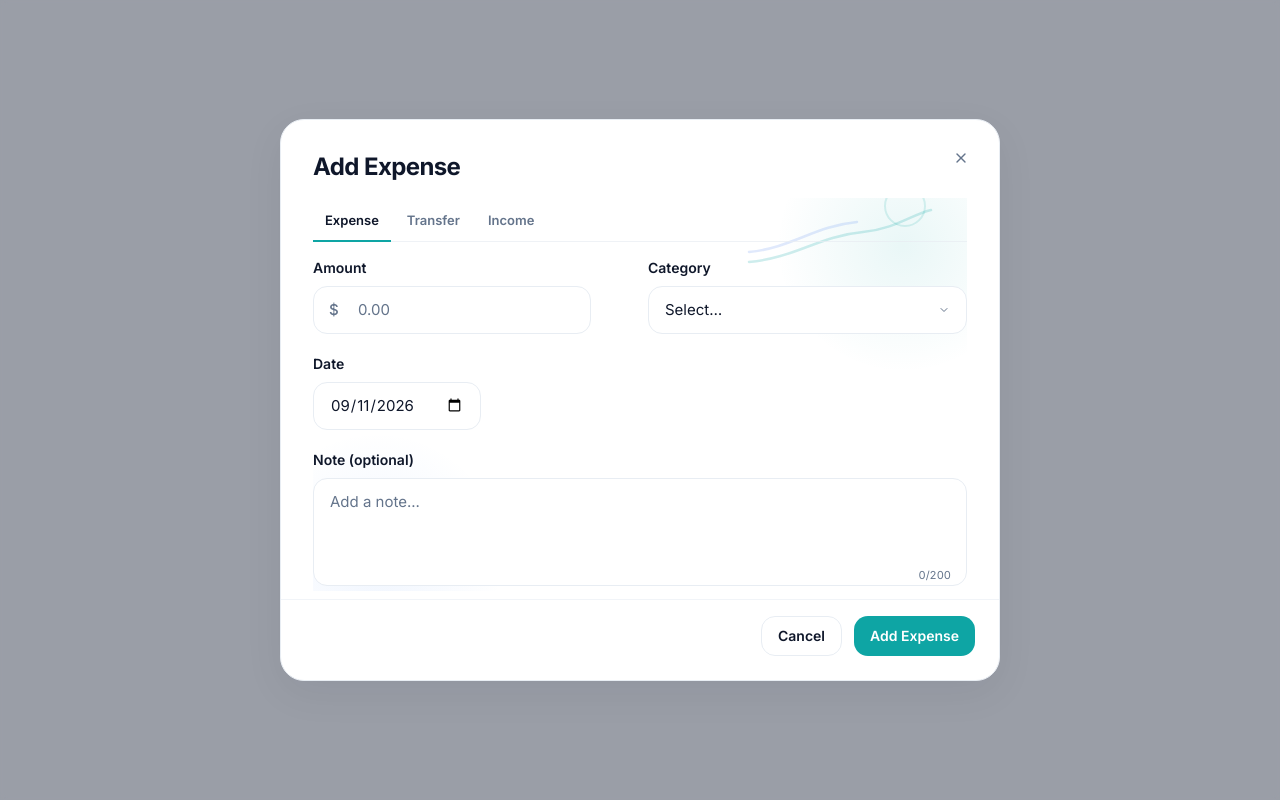
TransactionForm (AC-04, AC-05) › shows the note character counter while typing
Expected: the text "0/200" is shown, [918,567,951,583]
In the text box with placeholder "Add a note...": (640, 532) [313,478,967,586], type "Groceries"
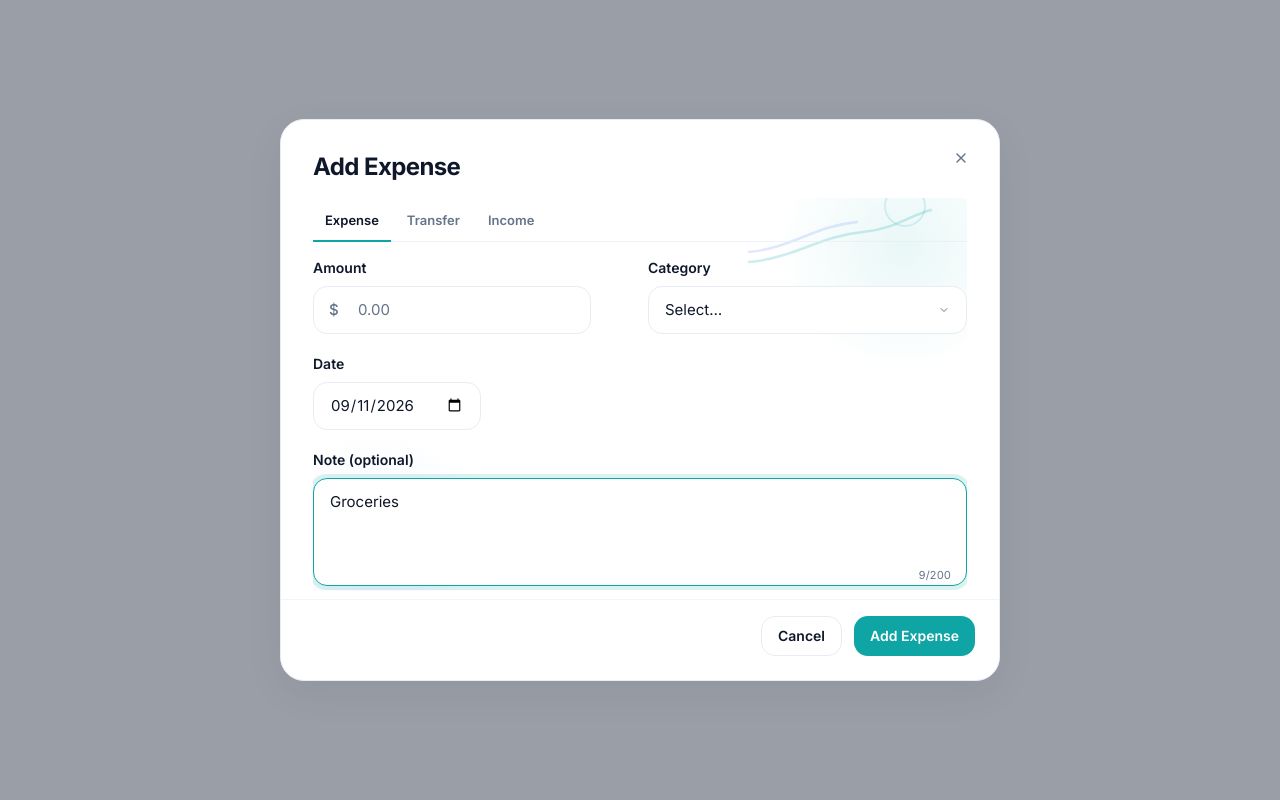
Now the text "9/200" is shown, box [918,567,951,583]
